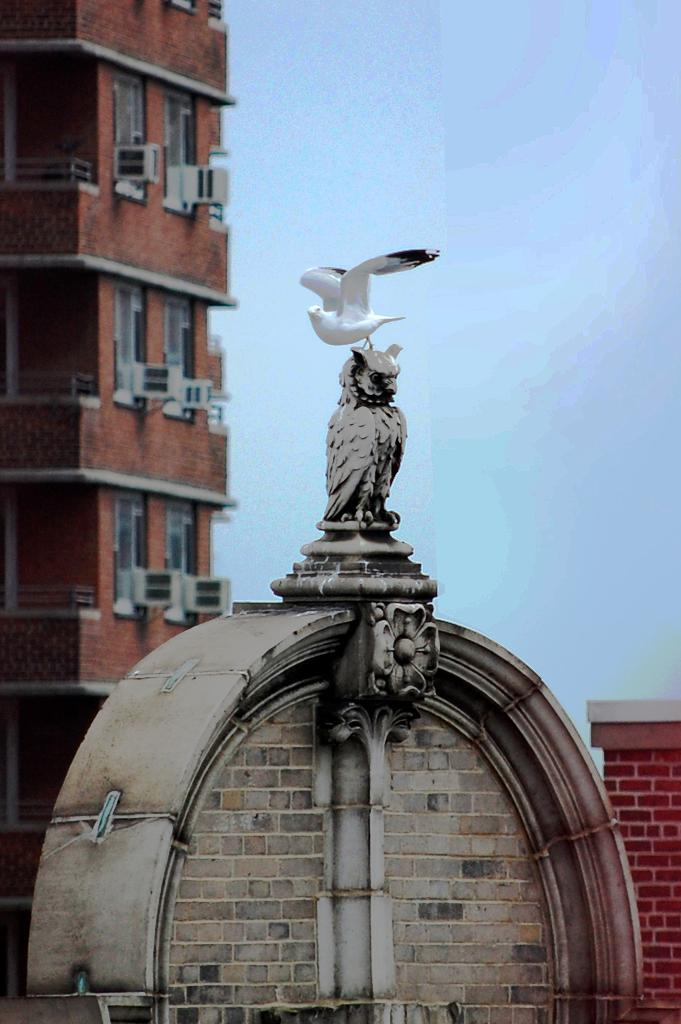Owl: (315, 328, 403, 533)
